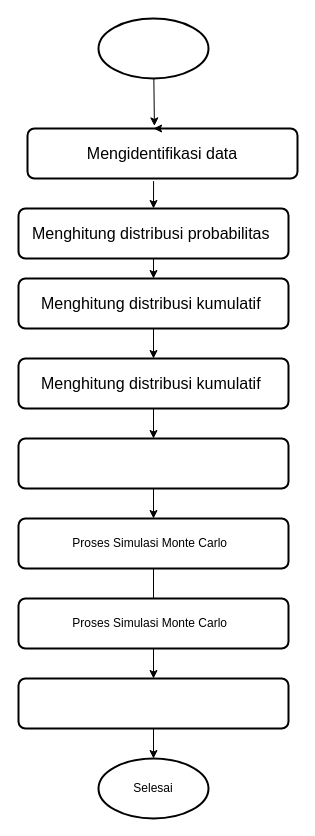
Image size: 315x836. Some labels were removed from this diagram. The shapes that lost their labels are listed below. From the top down, each one's centre as x and y in pixels, then its label:
At point (153, 48): "mulai".
At point (153, 463): "Menentukan interval bilangan acak".
At point (153, 703): "Hasil simulasi Monte Carlo".
